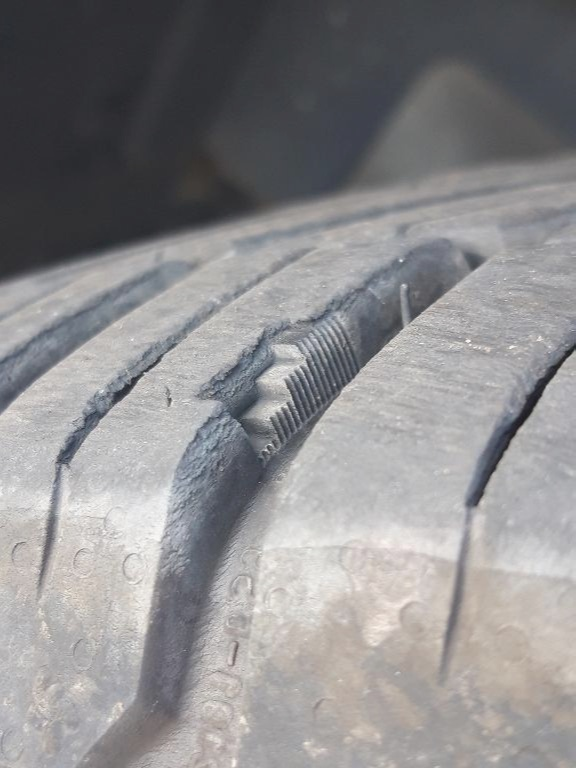temoin:80: (184, 293, 366, 481)
